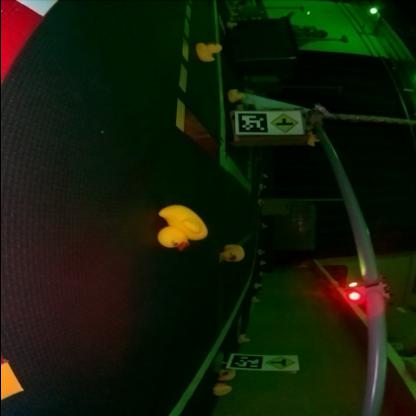Duckie: (158, 206, 208, 251), (196, 42, 222, 62), (222, 246, 244, 262), (212, 384, 232, 396), (218, 369, 236, 381), (228, 90, 243, 102), (240, 338, 247, 344)
Intersection sign: (270, 113, 301, 134), (269, 356, 297, 370)
QR code: (236, 114, 264, 134), (230, 356, 261, 370)
Traffic light: (345, 279, 392, 305)
